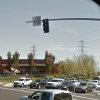traffic lights: (44, 20, 49, 34)
